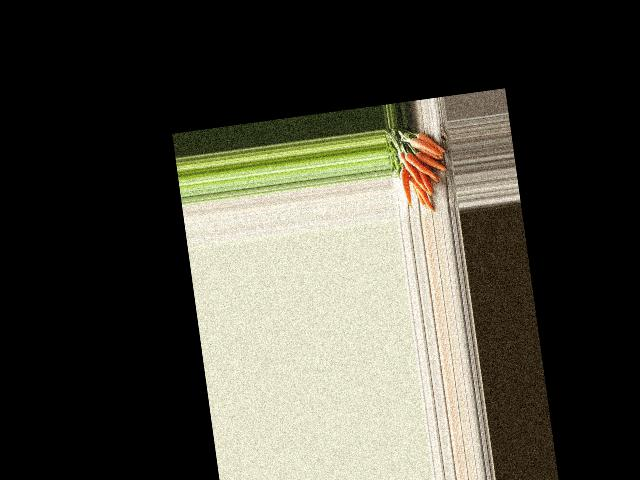carrot: (396, 169, 413, 207)
